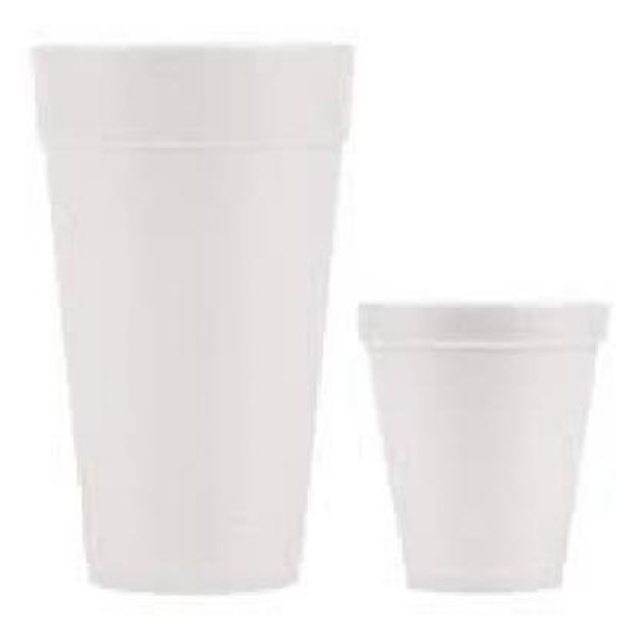trash: (35, 46, 351, 591), (360, 305, 606, 589)
